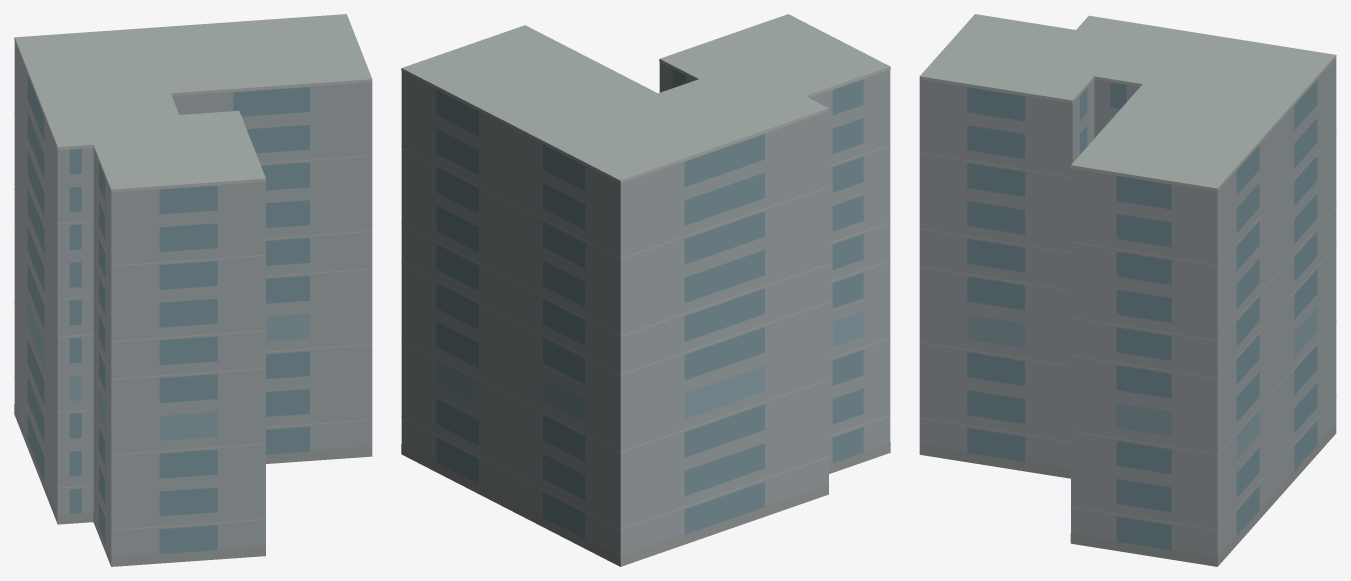
The model's file is residential-e665beef-1c7c-49c3-93ef-da66d63f1595.glb.
3 views of the same model, side by side, from view 1: azimuth 30°, elevation 25°; view 2: azimuth 150°, elevation 25°; view 3: azimuth 270°, elevation 25° (orthographic). The views are drawn at different scales.
Parts seen in each view (by area): view 1: residential-e665beef-1c7c-49c3-93ef-da66d63f1595.tmp; view 2: residential-e665beef-1c7c-49c3-93ef-da66d63f1595.tmp; view 3: residential-e665beef-1c7c-49c3-93ef-da66d63f1595.tmp.
Part boxes in pixels (x1,y1,x2,y2): residential-e665beef-1c7c-49c3-93ef-da66d63f1595.tmp: (14,14,372,566); residential-e665beef-1c7c-49c3-93ef-da66d63f1595.tmp: (401,14,890,566); residential-e665beef-1c7c-49c3-93ef-da66d63f1595.tmp: (919,14,1336,566).
Size of the model in its own units: 30.19 by 30.5 by 30.46.
